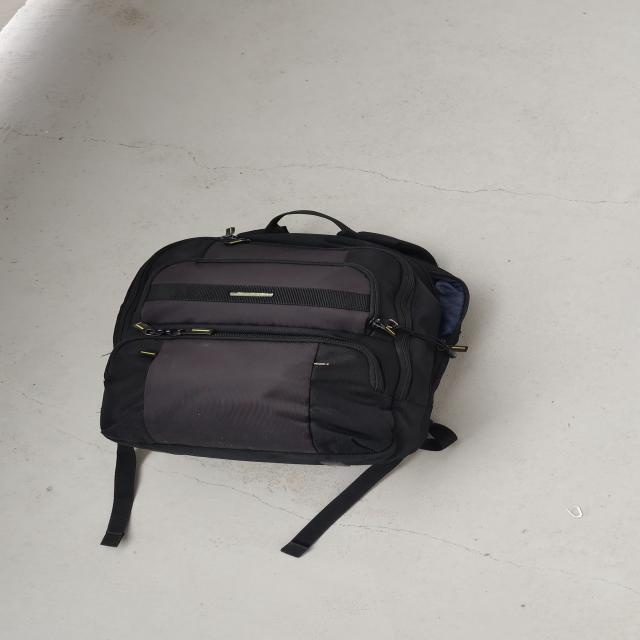backpack: (87, 202, 480, 480)
